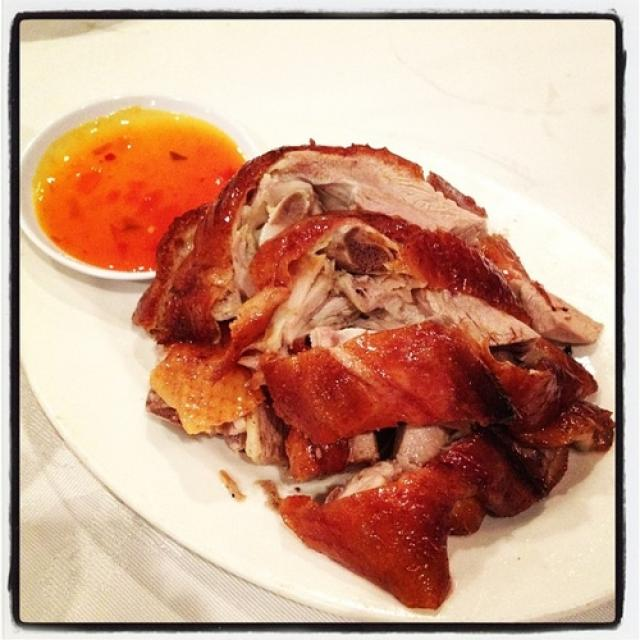烧串烤肉: (100, 77, 594, 610)
